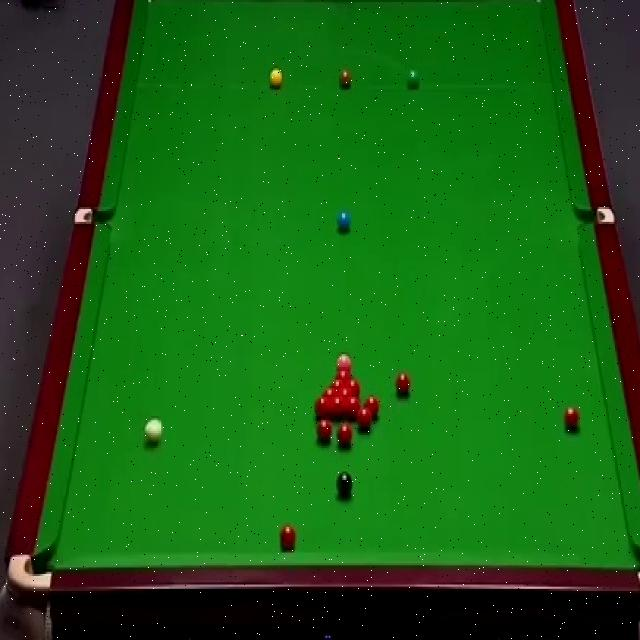black-ball: (336, 471, 354, 499)
blue-ball: (337, 211, 351, 232)
brown-ball: (338, 70, 352, 90)
green-ball: (406, 68, 420, 90)
pink-ball: (336, 352, 351, 366)
red-ball: (562, 404, 581, 434), (279, 524, 296, 550), (395, 371, 411, 397), (313, 395, 330, 419), (337, 426, 353, 450), (356, 408, 372, 432), (364, 395, 379, 420), (317, 419, 333, 442), (346, 396, 361, 420), (330, 395, 344, 418), (346, 377, 361, 395), (333, 366, 352, 377), (329, 378, 345, 388), (337, 387, 354, 396), (322, 387, 337, 397)
white-ball: (144, 414, 161, 445)
yellow-ball: (269, 69, 282, 89)
